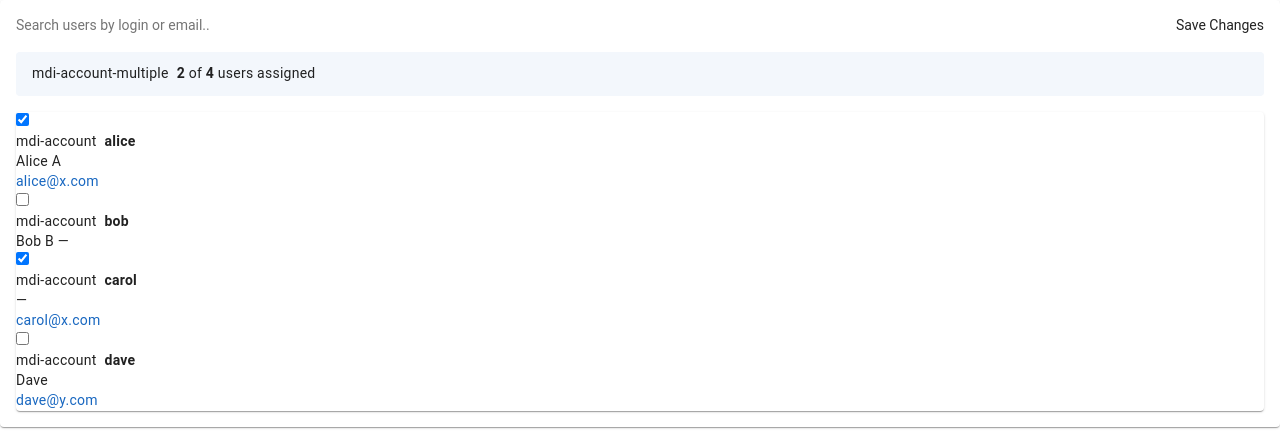
Test case: RoleUsersTab interactions › toggles a user on (was unselected)
Click the 2nd checkbox with class "stub-checkbox" at [22, 199], box top-left (16, 193), bottom-right (29, 206)
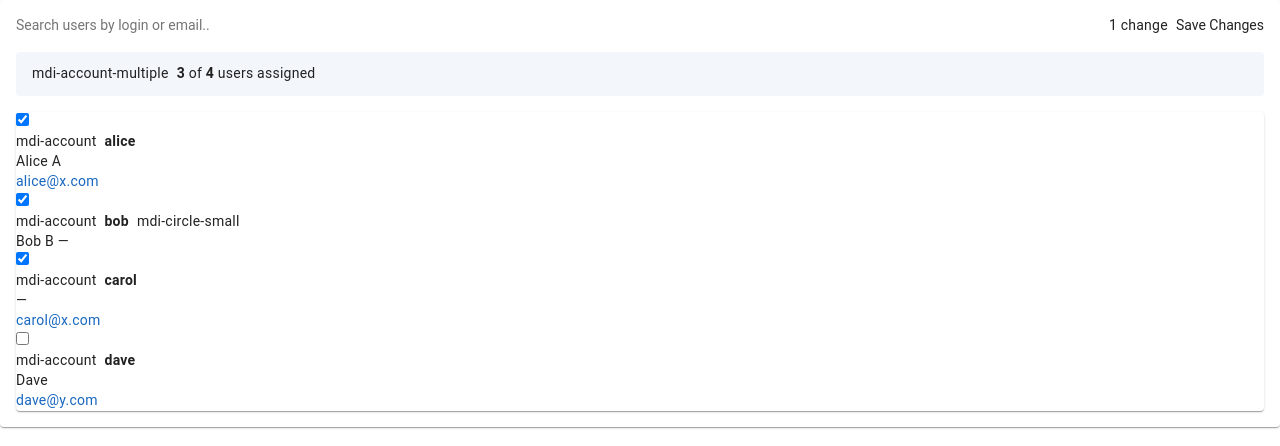
Expected: the text "1 change" is shown, top-left (1109, 16), bottom-right (1168, 36)
